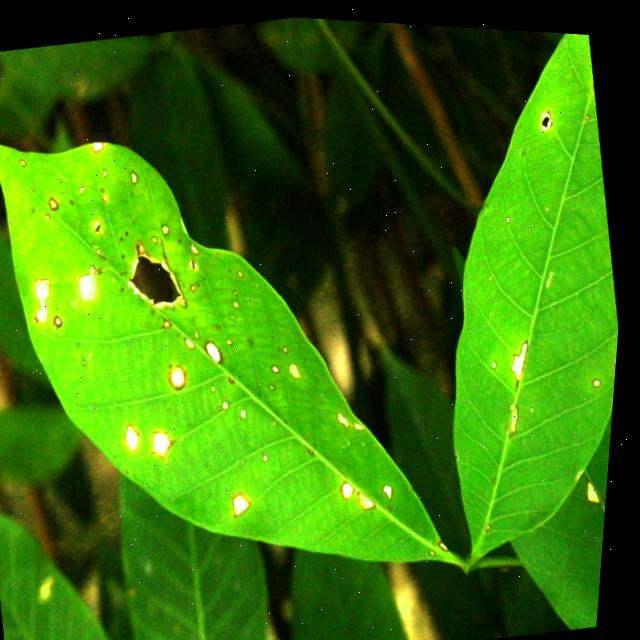Colletotrichum: (79, 268, 106, 303), (153, 424, 180, 458), (127, 419, 151, 451), (170, 360, 196, 389), (237, 486, 261, 515), (209, 336, 230, 363), (345, 475, 365, 497), (291, 358, 308, 376), (49, 194, 63, 212), (92, 138, 108, 153), (57, 313, 68, 328), (132, 170, 141, 184), (163, 222, 173, 233), (167, 317, 177, 327), (276, 360, 285, 370), (226, 397, 235, 407), (245, 405, 253, 416), (597, 370, 606, 379), (617, 350, 621, 368), (193, 281, 200, 291), (154, 233, 161, 243), (22, 157, 29, 167), (496, 353, 503, 362), (241, 267, 248, 274), (105, 192, 111, 200)
